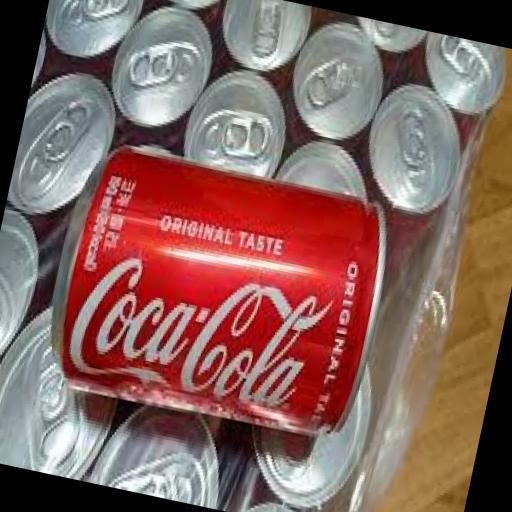Coca: (34, 124, 408, 466)
